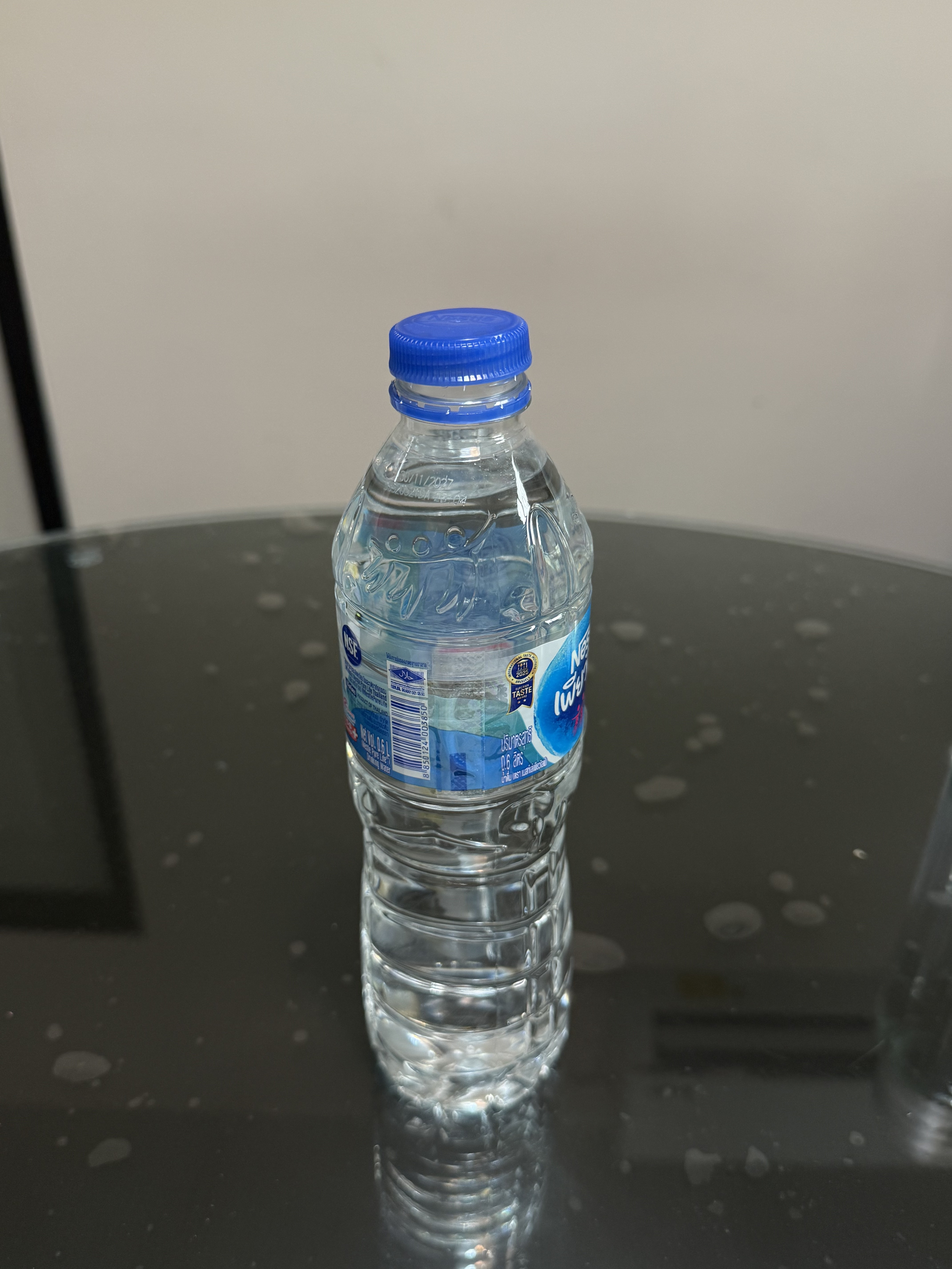half_cap: (380, 300, 538, 425)
